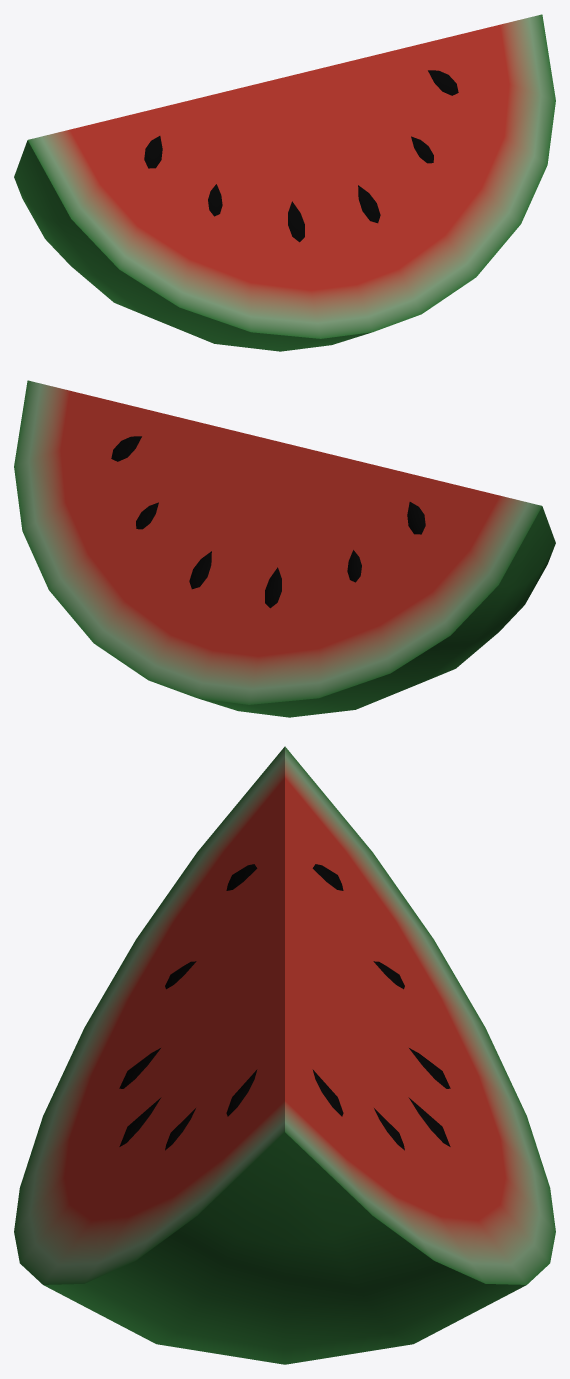
The model's file is Watermelon.glb.
The picture shows the model from 3 angles, top to bottom: view 1: azimuth 30°, elevation 25°; view 2: azimuth 150°, elevation 25°; view 3: azimuth 270°, elevation 25°; orthographic projection. The views are drawn at different scales.
Bounding box in the file's own units: 0.312 × 0.144 × 0.1851.
